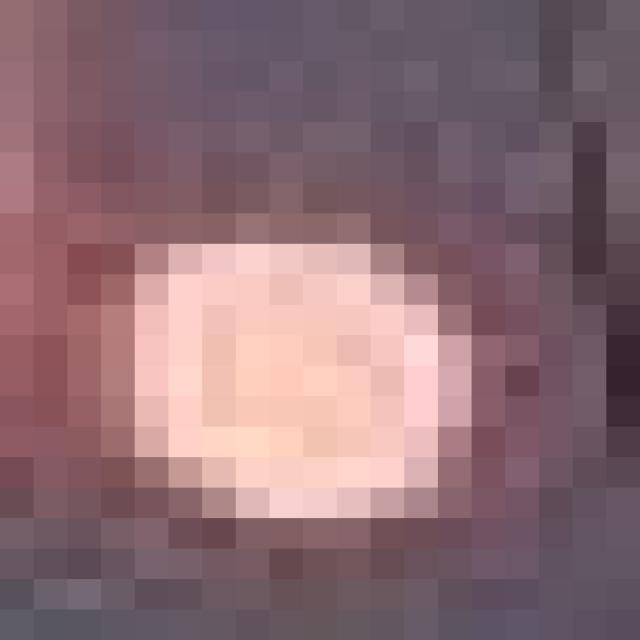.: (85, 169, 593, 606)
